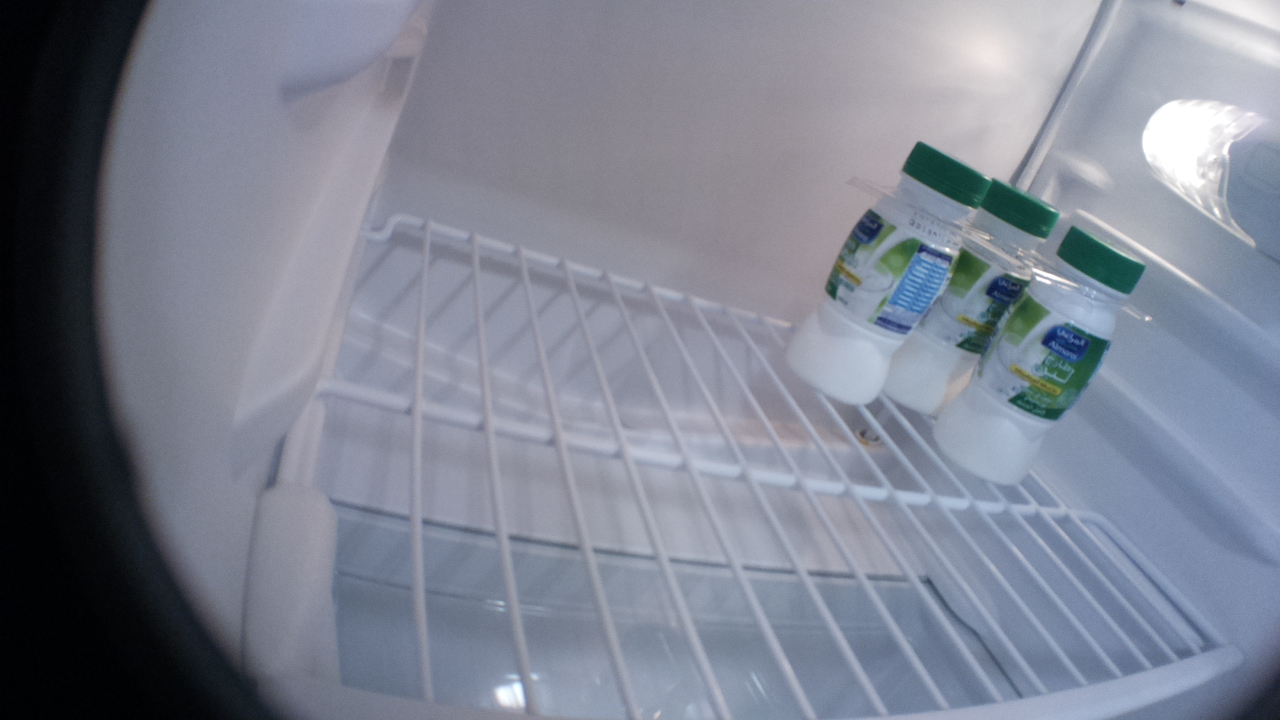laban: (935, 223, 1147, 483), (784, 141, 990, 404), (899, 141, 1163, 316)
